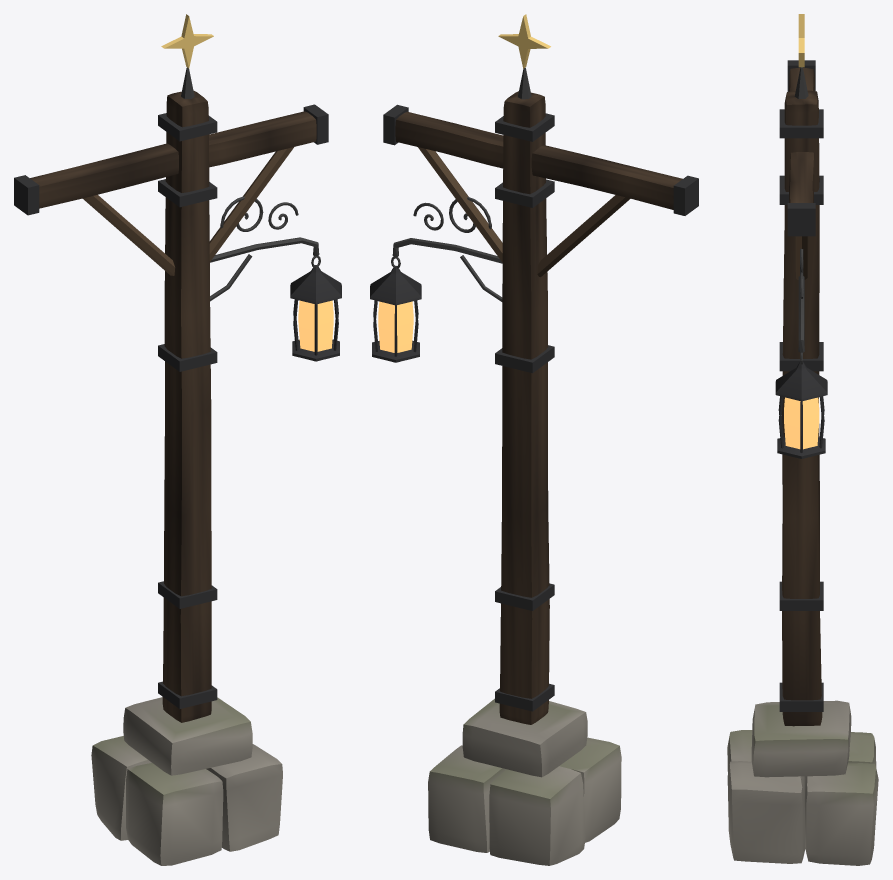
The model's file is lamp.glb.
3 renders of one model, left to right at view 1: azimuth 30°, elevation 25°; view 2: azimuth 150°, elevation 25°; view 3: azimuth 270°, elevation 25°, orthographic.
Parts seen in each view (by area): view 1: lamp_wood, lamp_stone, lamp_iron, Lantern, lantern_glow, lamp_gold; view 2: lamp_wood, lamp_stone, lamp_iron, Lantern, lantern_glow, lamp_gold; view 3: lamp_stone, lamp_wood, lamp_iron, Lantern, lantern_glow, lamp_gold.
Boxes of the visible parts, left/top/right/bottom form: lamp_wood: left=30, top=90, right=316, bottom=722; lamp_stone: left=91, top=697, right=282, bottom=865; lamp_iron: left=14, top=67, right=328, bottom=708; Lantern: left=290, top=256, right=341, bottom=361; lantern_glow: left=298, top=300, right=333, bottom=351; lamp_gold: left=161, top=14, right=213, bottom=68; lamp_wood: left=395, top=91, right=682, bottom=724; lamp_stone: left=428, top=698, right=621, bottom=865; lamp_iron: left=383, top=67, right=698, bottom=711; Lantern: left=370, top=256, right=421, bottom=362; lantern_glow: left=378, top=301, right=413, bottom=352; lamp_gold: left=498, top=14, right=550, bottom=68; lamp_stone: left=727, top=700, right=878, bottom=865; lamp_wood: left=782, top=68, right=822, bottom=726; lamp_iron: left=779, top=60, right=823, bottom=711; Lantern: left=775, top=352, right=827, bottom=458; lantern_glow: left=784, top=397, right=819, bottom=449; lamp_gold: left=798, top=14, right=804, bottom=67.
Size of the model in its own units: 2.55 by 6.2 by 1.03.
